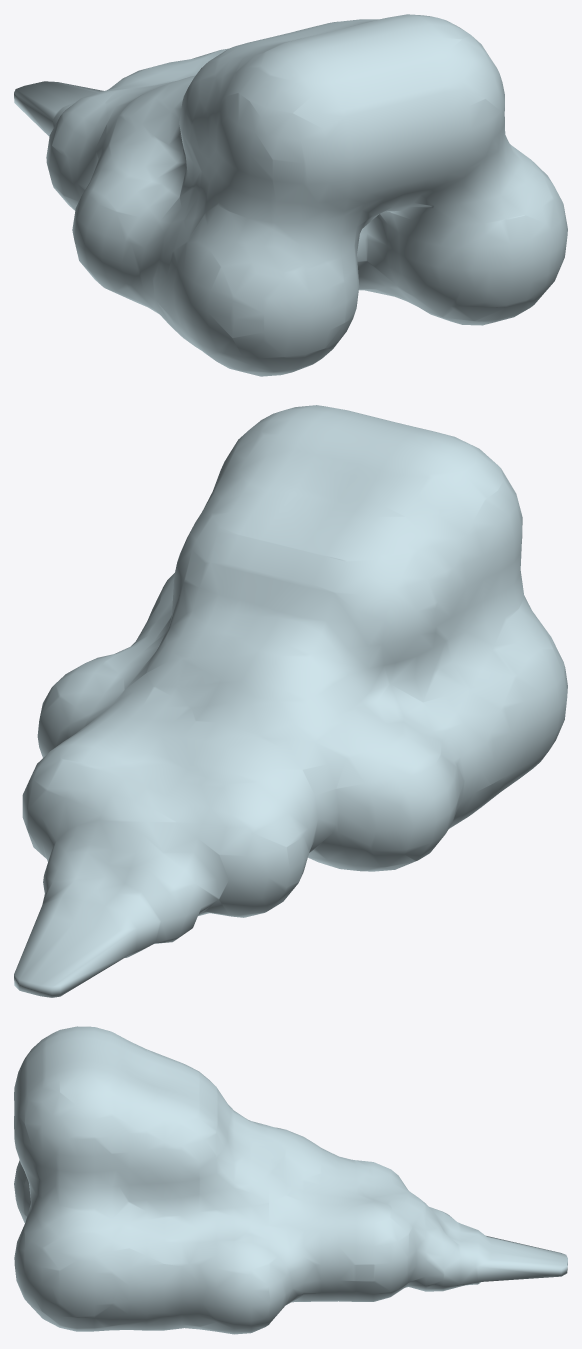
Rendered from RampaNubeGrande.glb.
3 views of the same model, one above another, from view 1: azimuth 30°, elevation 25°; view 2: azimuth 150°, elevation 25°; view 3: azimuth 270°, elevation 25° (orthographic). The views are drawn at different scales.
Visible parts, largest first — view 1: Mball.025; view 2: Mball.025; view 3: Mball.025.
Boxes of the visible parts, bbox=[...] form: Mball.025: bbox=[14, 14, 567, 376]; Mball.025: bbox=[14, 405, 567, 997]; Mball.025: bbox=[14, 1026, 567, 1334].
Size of the model in its own units: 7.45 by 6.14 by 12.71.
